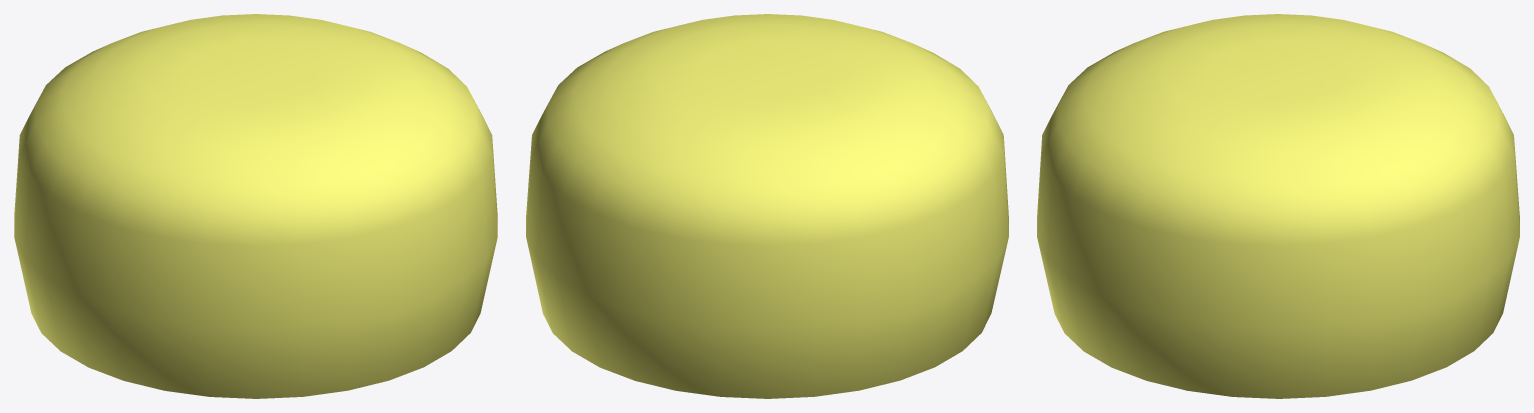
File: SM_PoofA01.fbx
3 views of the same model, side by side, from view 1: azimuth 30°, elevation 25°; view 2: azimuth 150°, elevation 25°; view 3: azimuth 270°, elevation 25° (orthographic).
Visible parts, largest first — view 1: SM_PoofA01; view 2: SM_PoofA01; view 3: SM_PoofA01.
Part boxes in pixels (bbox=[...]): SM_PoofA01: bbox=[14, 14, 497, 398]; SM_PoofA01: bbox=[526, 14, 1008, 398]; SM_PoofA01: bbox=[1037, 14, 1519, 398].
Bounding box in the file's own units: 0.7993 × 0.4395 × 0.795.
